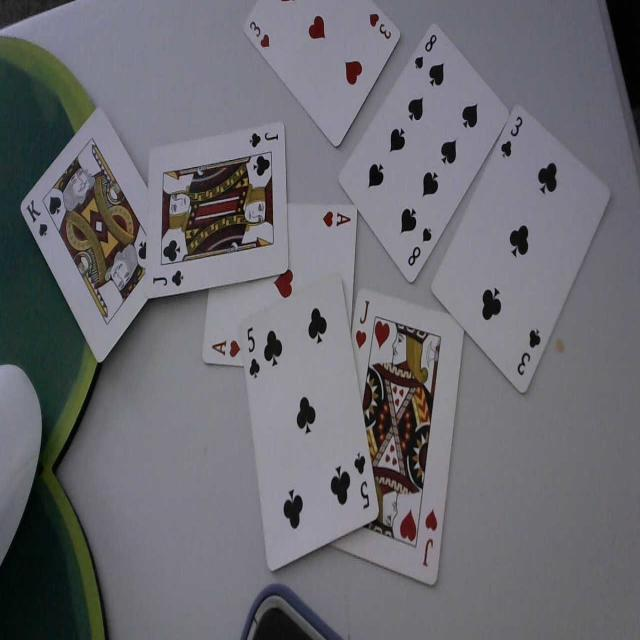3C: (516, 327, 543, 377), (499, 115, 523, 161)
3H: (367, 10, 392, 42), (250, 20, 272, 50)
5C: (354, 450, 372, 510), (246, 323, 262, 378)
8S: (407, 223, 435, 266), (413, 32, 438, 73)
AH: (210, 336, 240, 361), (321, 206, 355, 228)
JC: (153, 268, 184, 288)
JH: (421, 507, 438, 569), (355, 297, 371, 350)
KS: (27, 199, 51, 238)
